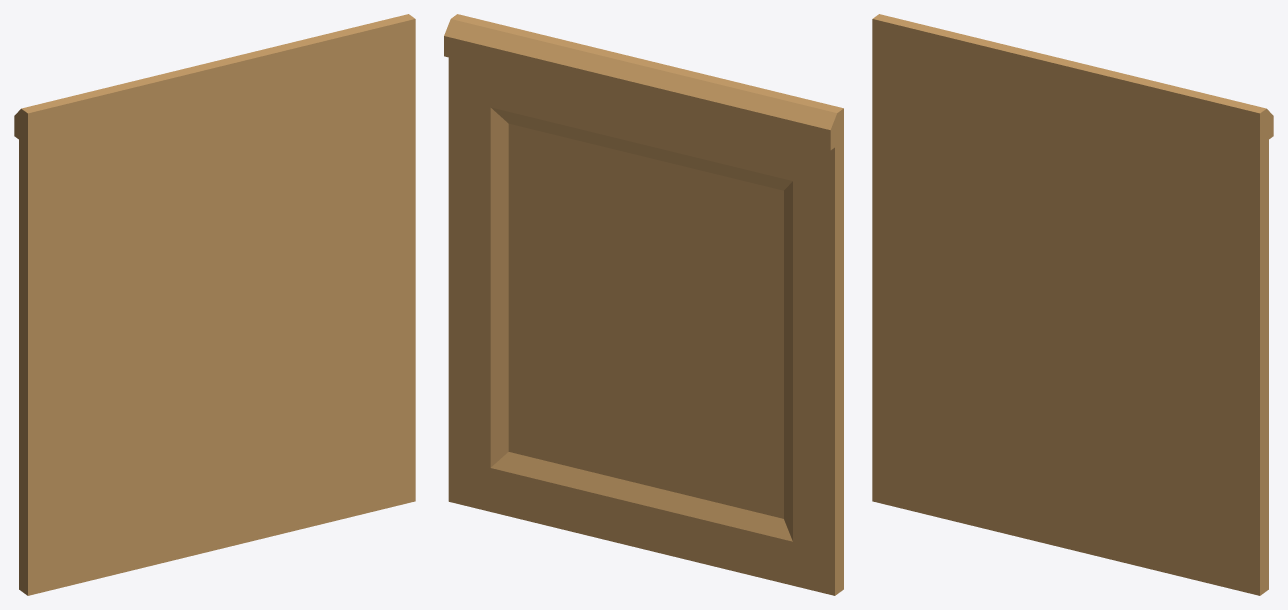
The model's file is paneling.glb.
3 views of the same model, side by side, from view 1: azimuth 30°, elevation 25°; view 2: azimuth 150°, elevation 25°; view 3: azimuth 330°, elevation 25° (orthographic).
Size of the model in its own units: 5 by 5.95 by 0.3.
